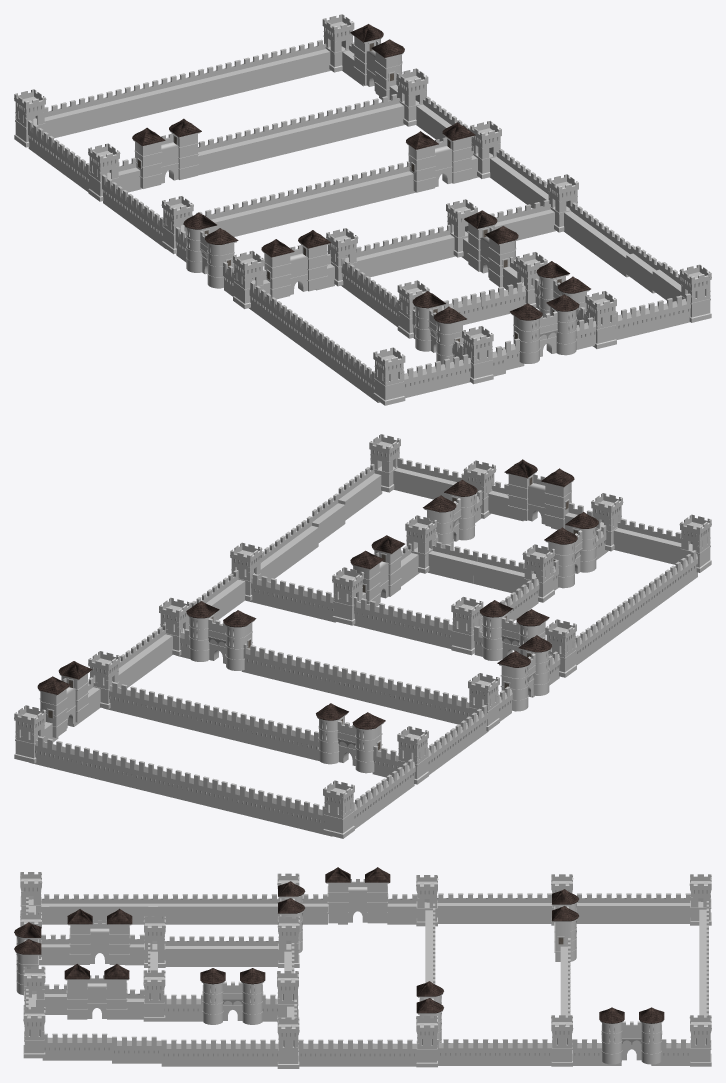
Rendered from conbinedwalls.fbx.
The picture shows the model from 3 angles, top to bottom: view 1: azimuth 30°, elevation 25°; view 2: azimuth 150°, elevation 25°; view 3: azimuth 270°, elevation 25°; orthographic projection. The views are drawn at different scales.
Parts seen in each view (by area): view 1: zone2_wall_36; view 2: zone2_wall_36; view 3: zone2_wall_36.
Part boxes in pixels (box(x1,y1,x2,y2)): zone2_wall_36: box(14, 14, 711, 405); zone2_wall_36: box(14, 434, 711, 838); zone2_wall_36: box(14, 867, 711, 1068).
Size of the model in its own units: 11237 by 2171 by 21147.
